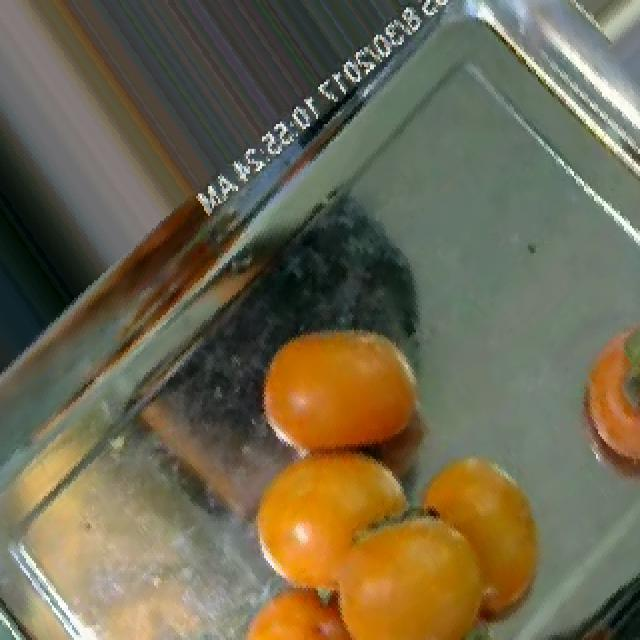Fruit: (236, 297, 442, 498), (568, 302, 640, 493), (550, 548, 640, 640)
